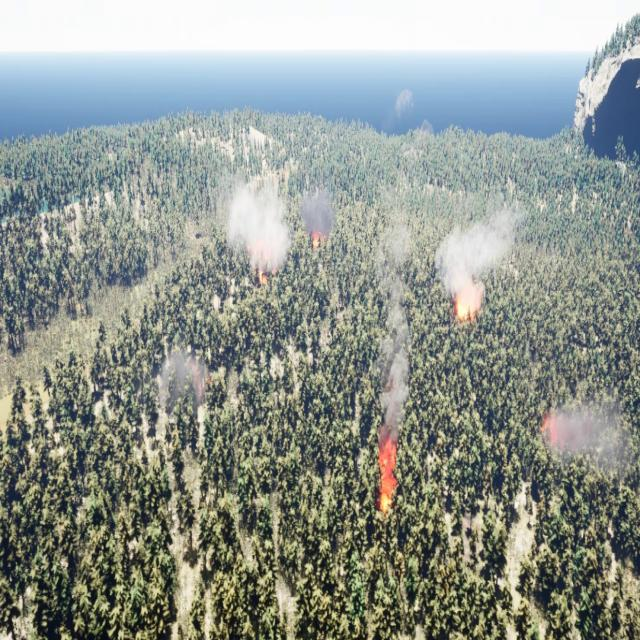fire: (380, 442, 402, 516), (454, 294, 483, 320)
smoke: (435, 210, 523, 298), (227, 169, 290, 282), (381, 217, 413, 438), (536, 412, 631, 461), (159, 349, 212, 404), (306, 186, 341, 246)
